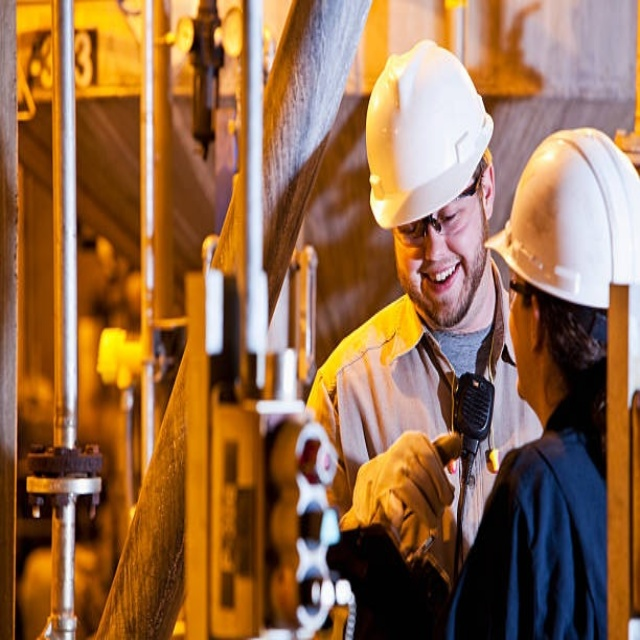Gafas: (391, 158, 493, 243), (507, 264, 540, 314)
Guantes: (341, 426, 461, 563)
Sin_mascara: (417, 249, 466, 317)
